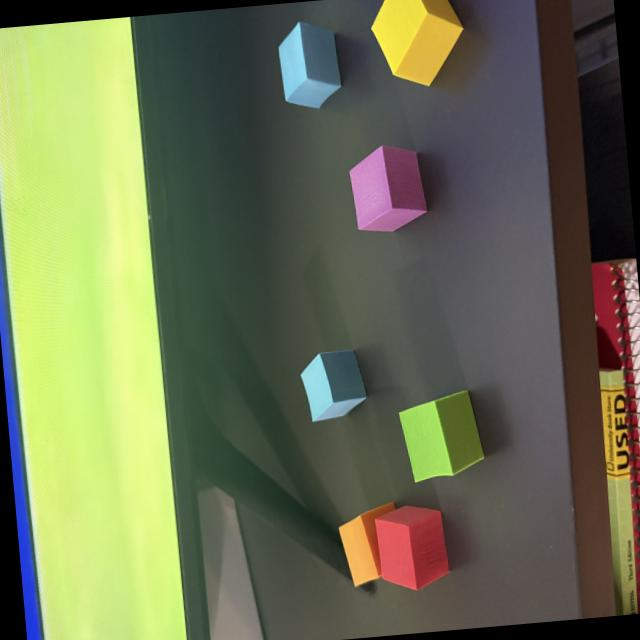bluecube: (278, 20, 341, 106), (301, 348, 366, 420)
greencube: (398, 389, 484, 481)
orangecube: (338, 501, 395, 585)
purplecube: (349, 144, 426, 230)
redcube: (375, 504, 449, 588)
yellowcube: (371, 0, 463, 85)
